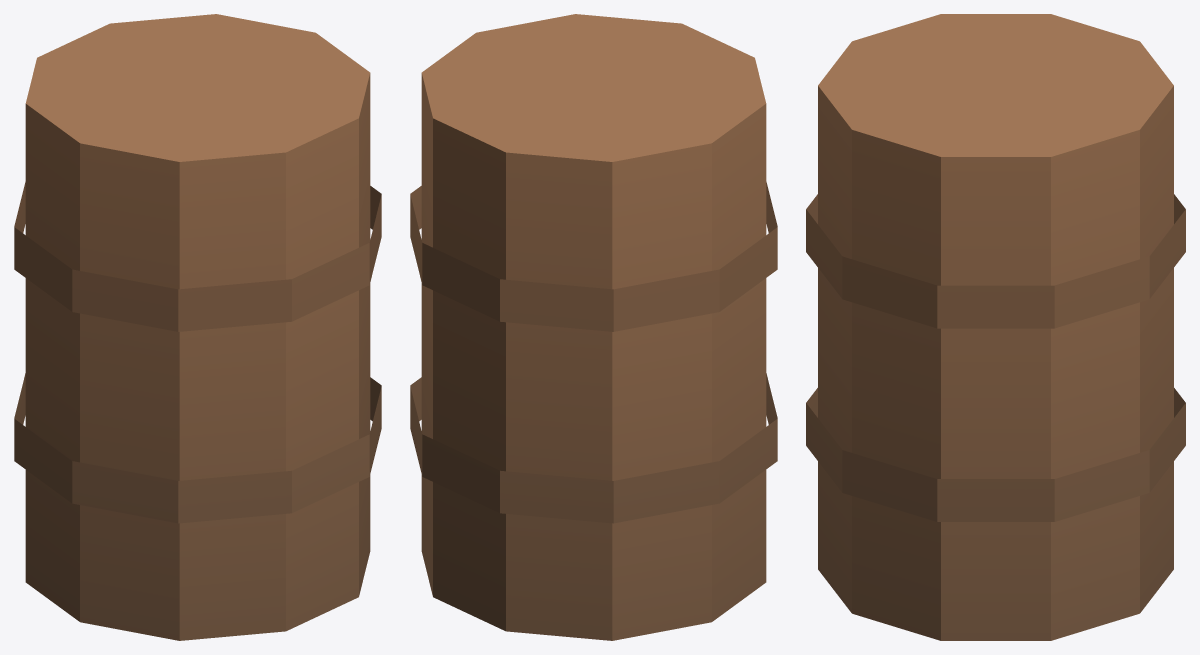
Rendered from barrel.glb.
The picture shows the model from 3 angles, left to right: view 1: azimuth 30°, elevation 25°; view 2: azimuth 150°, elevation 25°; view 3: azimuth 270°, elevation 25°; orthographic projection.
Parts seen in each view (by area): view 1: barrel; view 2: barrel; view 3: barrel.
Boxes of the visible parts, bbox=[...] form: barrel: bbox=[14, 14, 381, 640]; barrel: bbox=[410, 14, 777, 640]; barrel: bbox=[806, 14, 1185, 640].
Bounding box in the file's own units: 0.6087 × 0.9 × 0.64.
